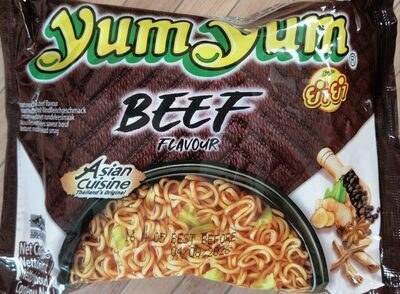Beef Flavour: (20, 15, 380, 279)
